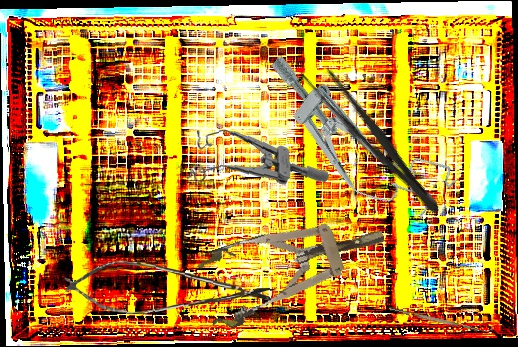Chopper: (388, 302, 494, 336)
Dressing Forceps: (295, 56, 451, 223)
Micro Scissor: (60, 259, 280, 319)
Speculum: (241, 41, 462, 238), (191, 198, 396, 334), (183, 121, 329, 192)
